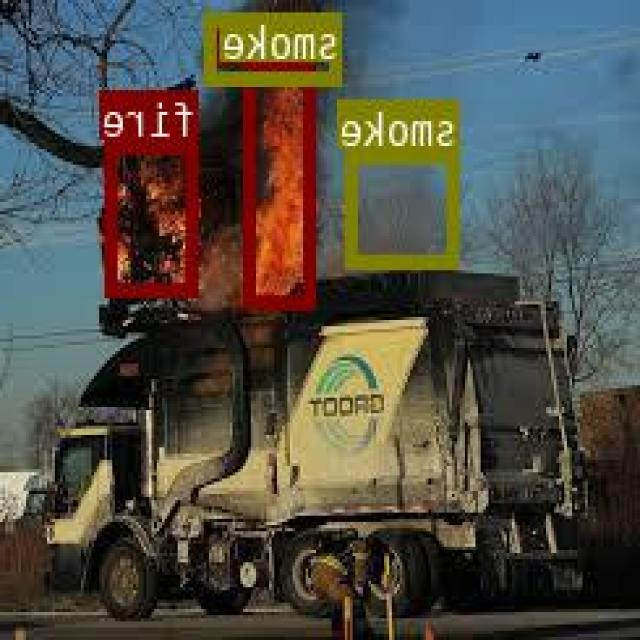fire: (248, 64, 316, 306), (109, 139, 201, 294)
smoke: (348, 146, 462, 265), (207, 10, 345, 81)
